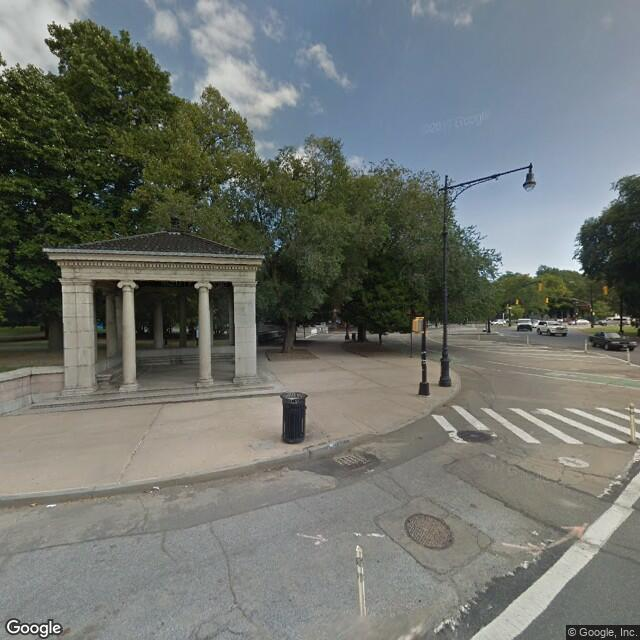litter: (45, 502, 57, 506), (152, 485, 162, 488), (182, 483, 188, 487)
